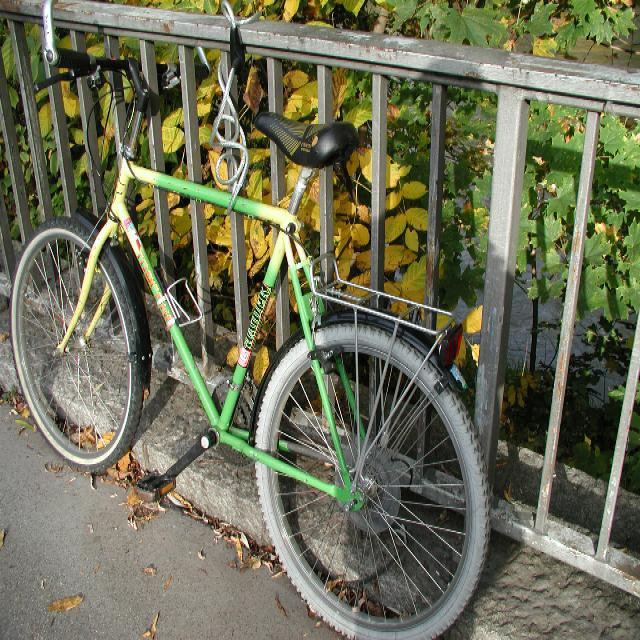bicycle: (8, 0, 491, 639)
